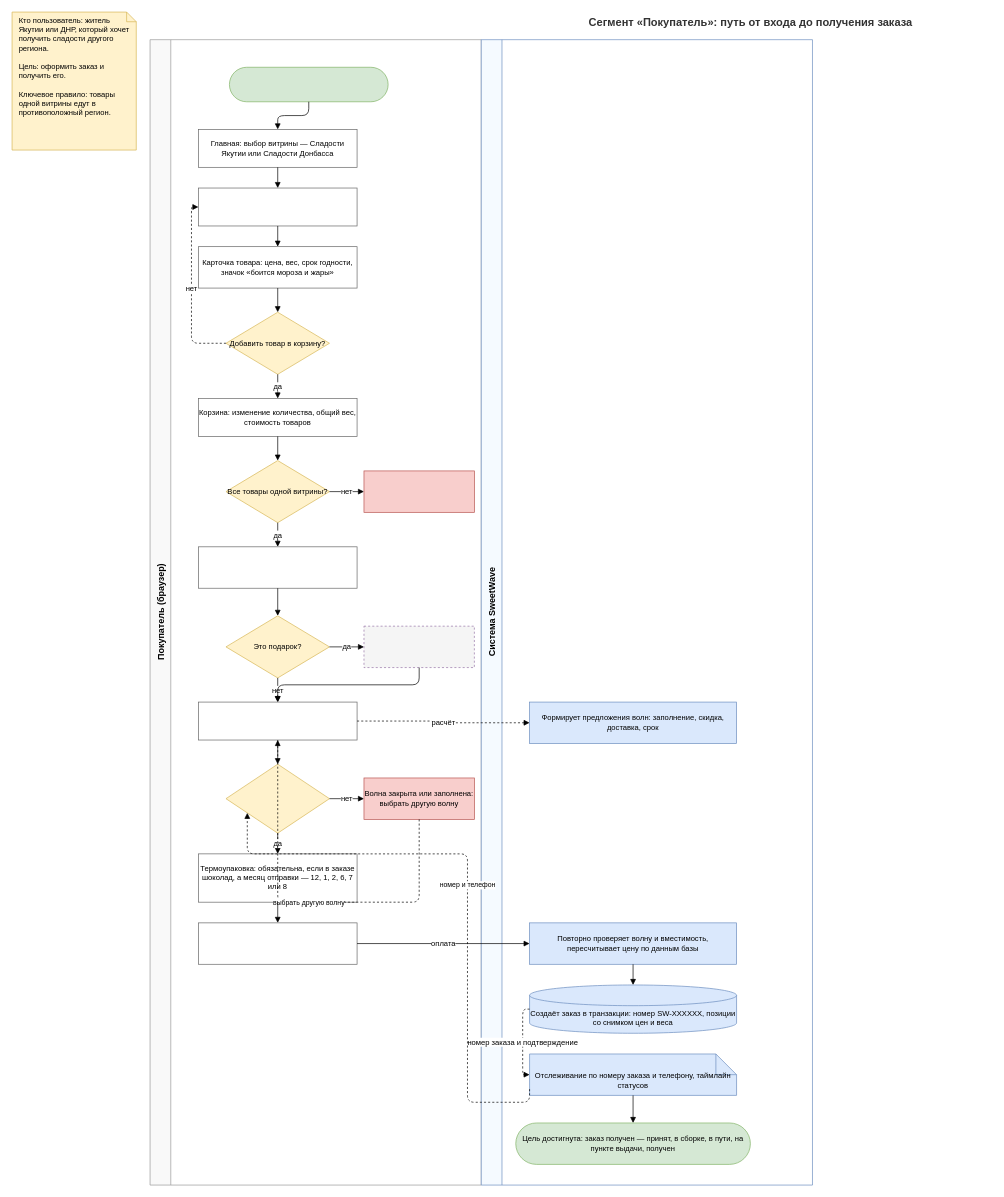
The diagram is 1004 pixels wide and 1197 high, and some of its shapes have lost their labels. Here are the shapes that lost their labels. From the top down, the box of each, then its label:
(229, 67, 388, 102): Начало: покупатель открывает сайт
(198, 187, 357, 226): Каталог: фильтр по категории, поиск по названию и производителю
(363, 470, 474, 512): Нельзя смешивать витрины: очистить корзину или оформить текущий заказ
(198, 546, 357, 588): Оформление: имя и телефон покупателя, город и пункт выдачи
(363, 625, 474, 668): Данные получателя и текст открытки подробно на странице 3
(198, 701, 357, 740): Выбор волны: таблица открытых волн с расчётом доставки
(225, 763, 329, 833): Волна открыта и есть свободное место?
(198, 922, 357, 964): Итог: товары + доставка + термоупаковка. Кнопка «Оплатить (демо)»
